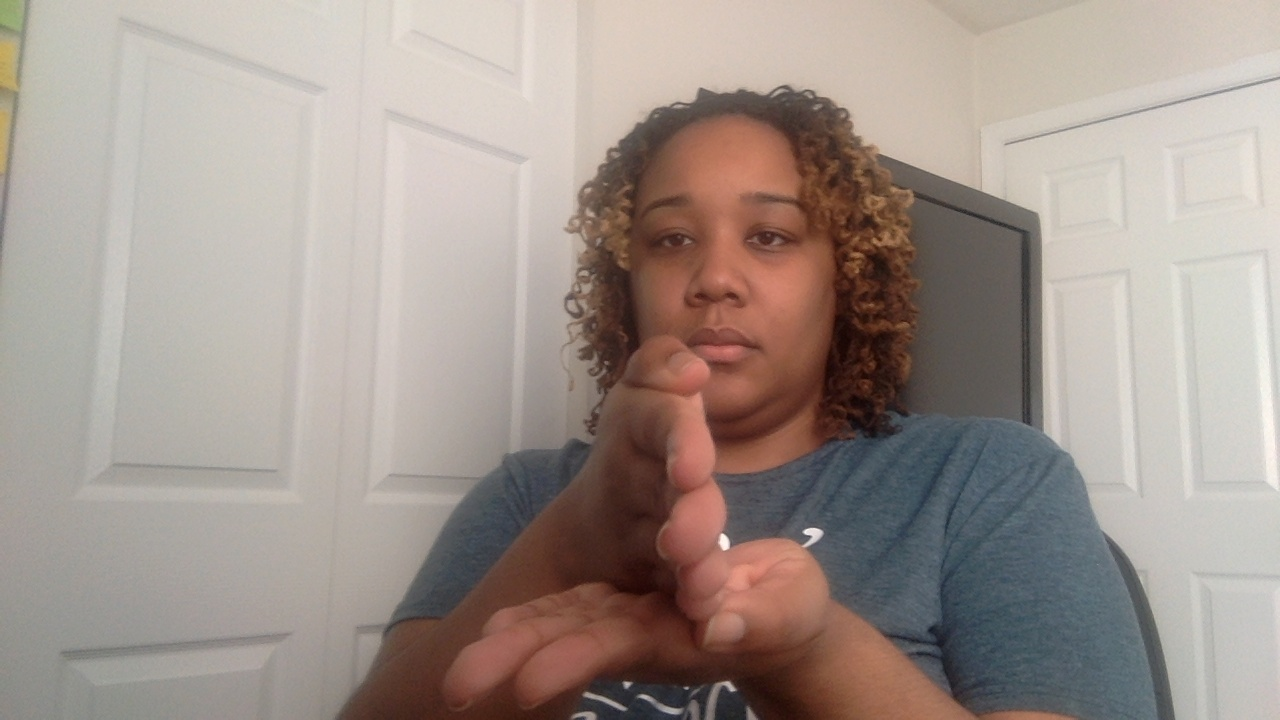stop: (443, 333, 842, 710)
